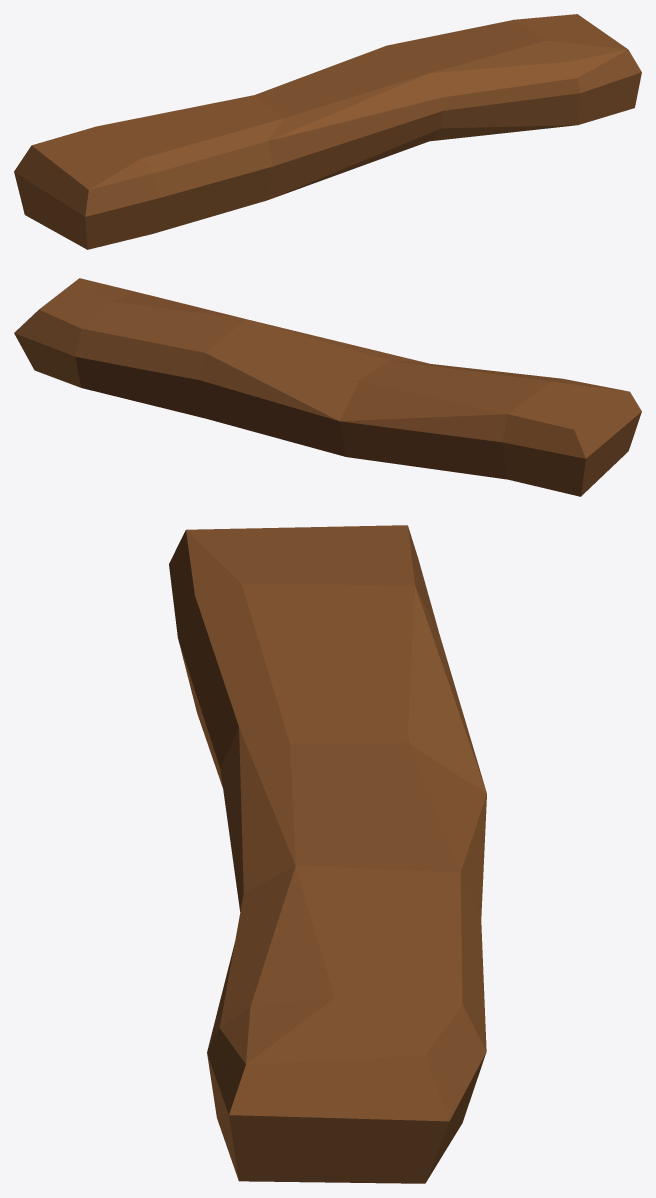
The model's file is obj_wood_001.FBX.
3 renders of one model, top to bottom at view 1: azimuth 30°, elevation 25°; view 2: azimuth 150°, elevation 25°; view 3: azimuth 270°, elevation 25°, orthographic. The views are drawn at different scales.
Visible parts, largest first — view 1: obj_wood_001; view 2: obj_wood_001; view 3: obj_wood_001.
Part boxes in pixels (x1=…): obj_wood_001: x1=14, y1=14, x2=641, y2=249; obj_wood_001: x1=14, y1=278, x2=641, y2=496; obj_wood_001: x1=169, y1=525, x2=486, y2=1183.
Size of the model in its own units: 102 by 12.65 by 24.88.
